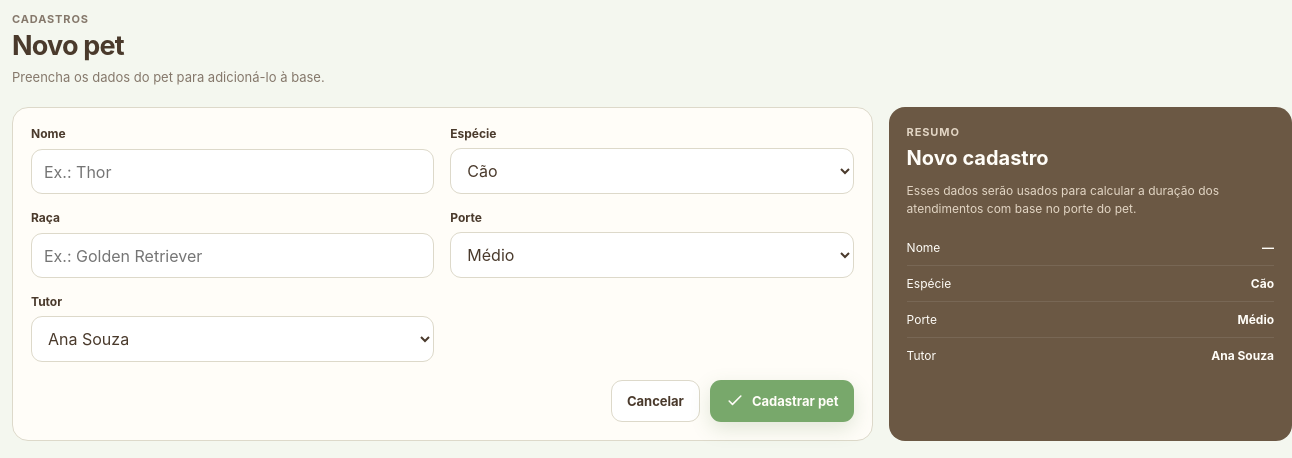
Test: UI | NovoPetForm › deve refletir a troca de porte (size) no card de resumo
Select "Grande" in the dropdown labelled "Porte" at (652, 255), box [450,232,854,278]
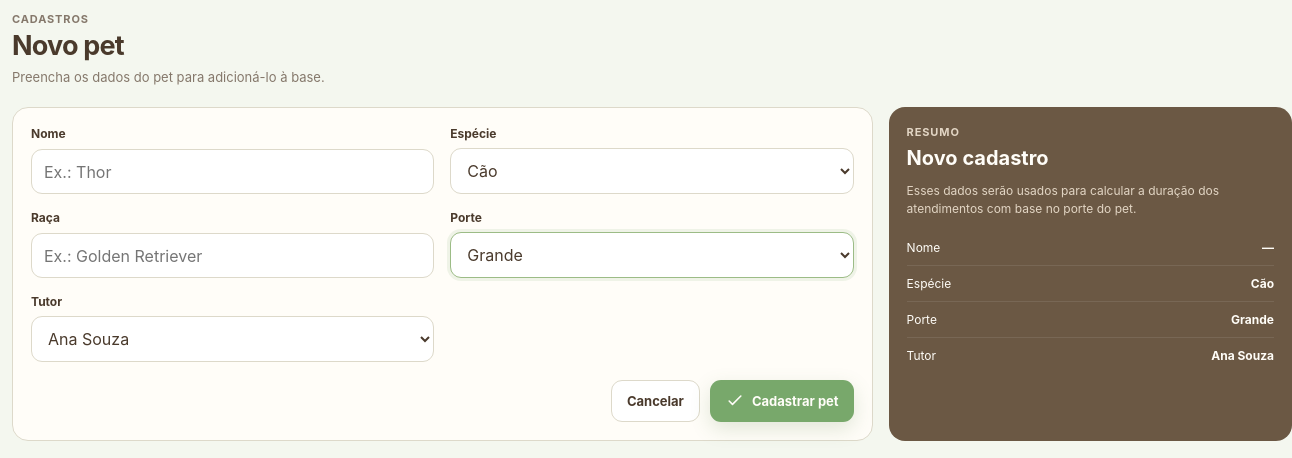
expect the element with class "summary-row" shows "Grande": met, box [1231,312,1274,327]
